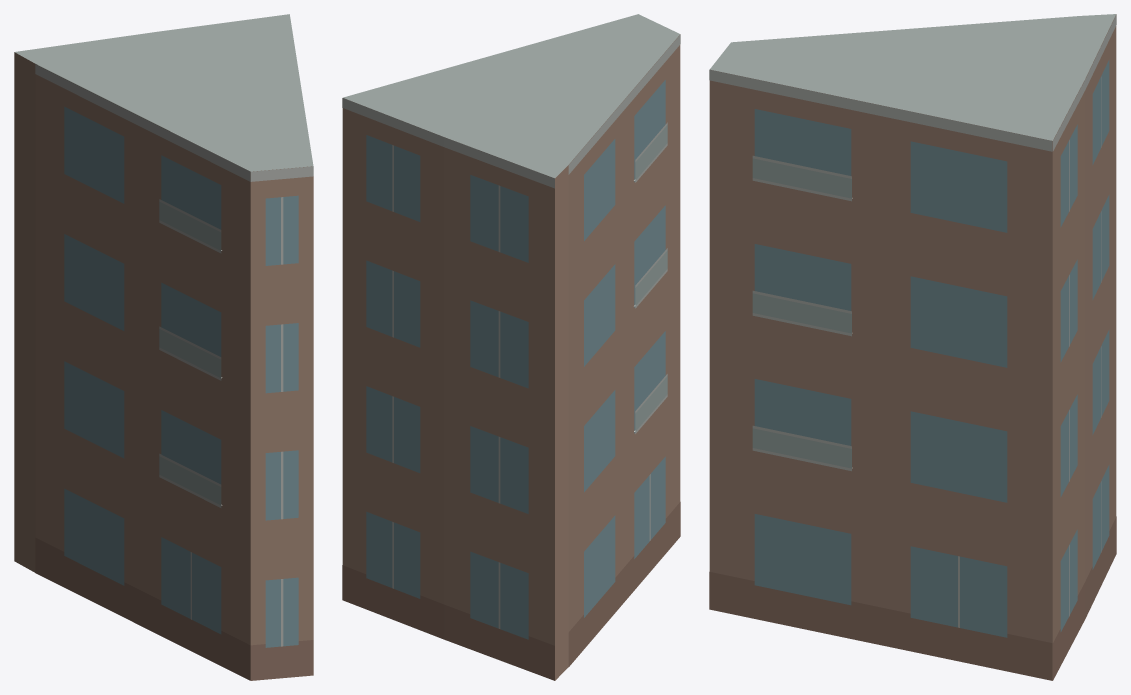
Rendered from survey-upis-33036174.glb.
3 renders of one model, left to right at view 1: azimuth 30°, elevation 25°; view 2: azimuth 150°, elevation 25°; view 3: azimuth 270°, elevation 25°, orthographic. The views are drawn at different scales.
Parts seen in each view (by area): view 1: survey-upis-33036174.tmp; view 2: survey-upis-33036174.tmp; view 3: survey-upis-33036174.tmp.
Part boxes in pixels (x1,y1,x2,y2): survey-upis-33036174.tmp: (14,14,313,680); survey-upis-33036174.tmp: (342,14,680,680); survey-upis-33036174.tmp: (709,14,1116,680).
Size of the model in its own units: 6.11 by 12.1 by 8.27.
